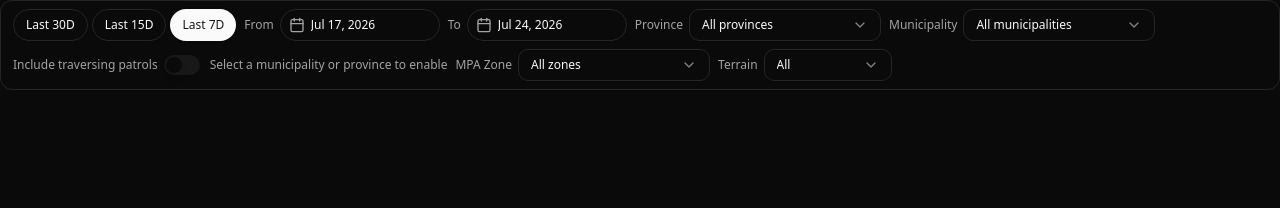
Test case: ReportFilterBar — count full traversing patrols (zone scope only) › appears once a specific zone is selected, and defaults to OFF
The image size is (1280, 208).
Click the dropdown with test id "report-protected-zone": (614, 65) [518,49,710,81]
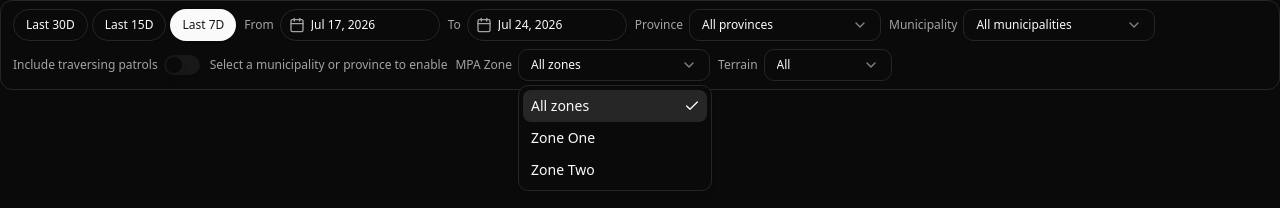
Click the option "Zone One": (563, 138) [531,128,595,147]
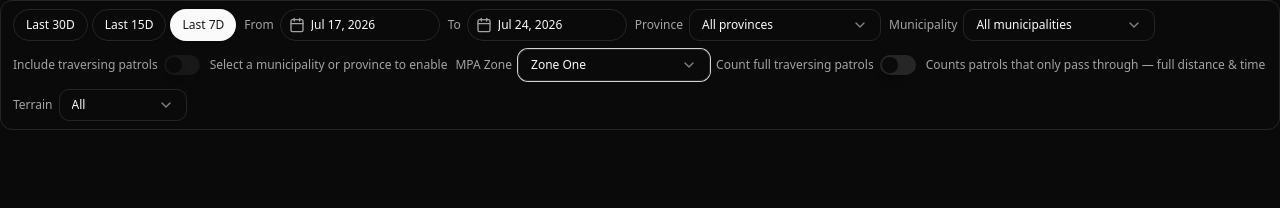
Expected: the switch with test id "report-include-traversing-full" is shown, [880,55,916,75]
